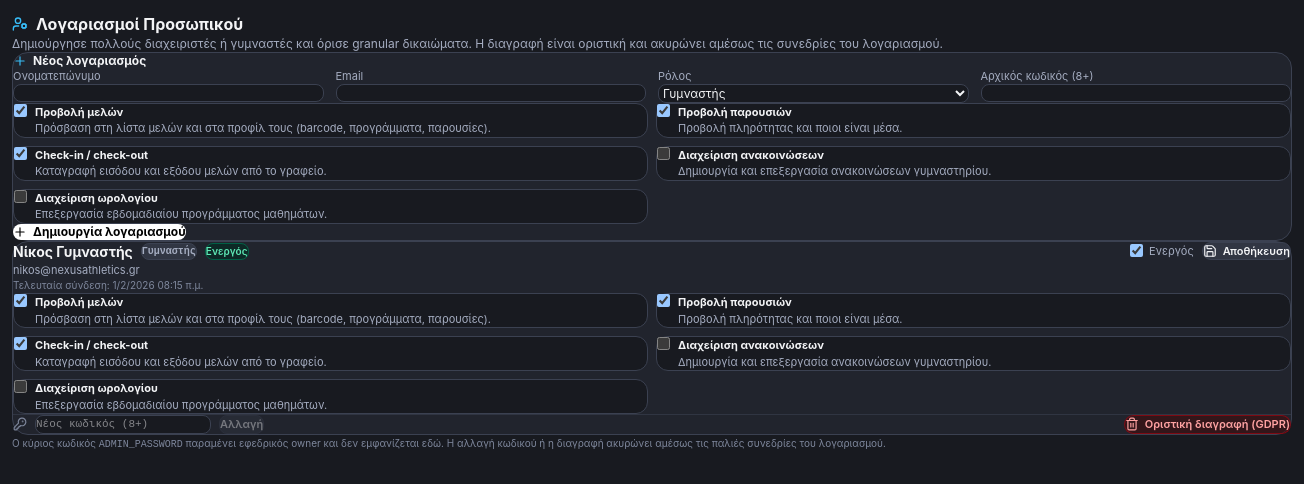
Test: StaffTab (staff accounts and permissions) › changes a password and tells the admin the old sessions are gone
Expected: the text "Νίκος Γυμναστής" is shown, [13,242,133,262]
In the password field with placeholder "Νέος κωδικός (8+)": (123, 424) [35,415,211,434], type "brandnewpass"
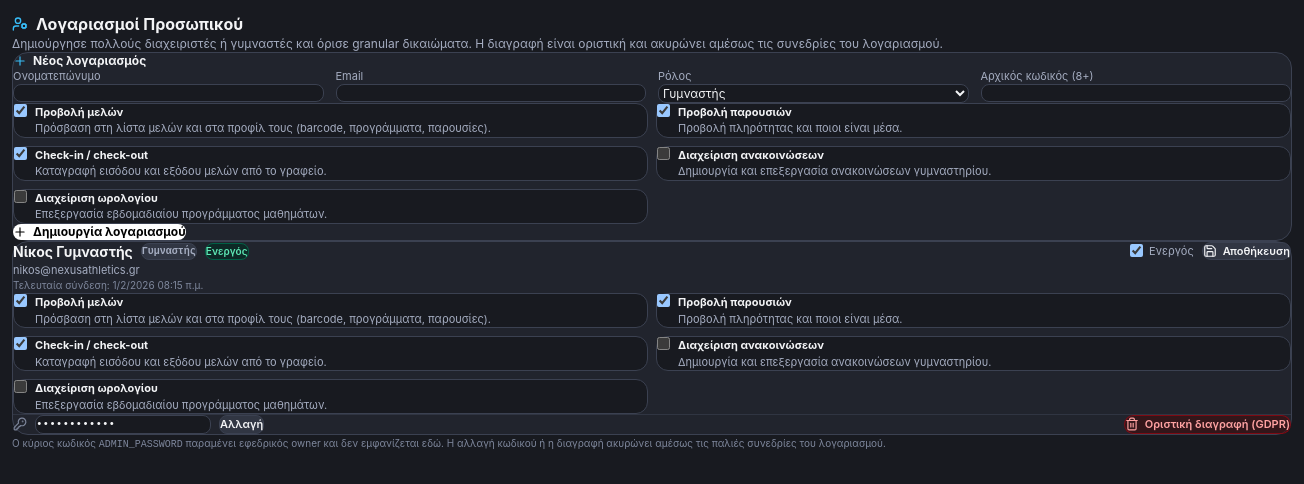
Click the button "Αλλαγή": (242, 424) [219,415,264,434]
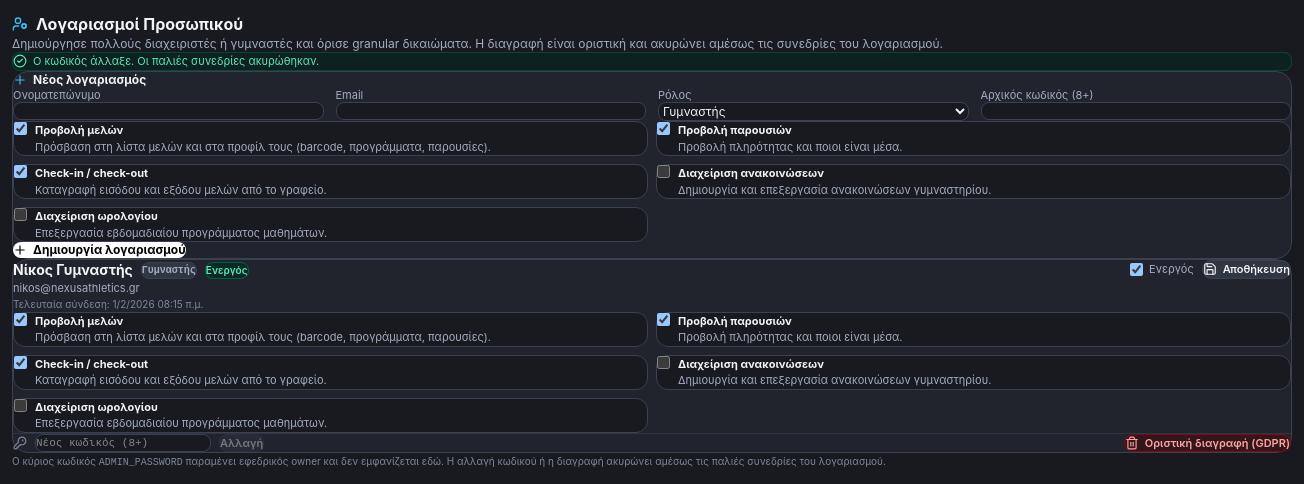
Expected: the text "Ο κωδικός άλλαξε. Οι παλιές συνεδρίες ακυρώθηκαν." is shown, [12,52,1292,70]
